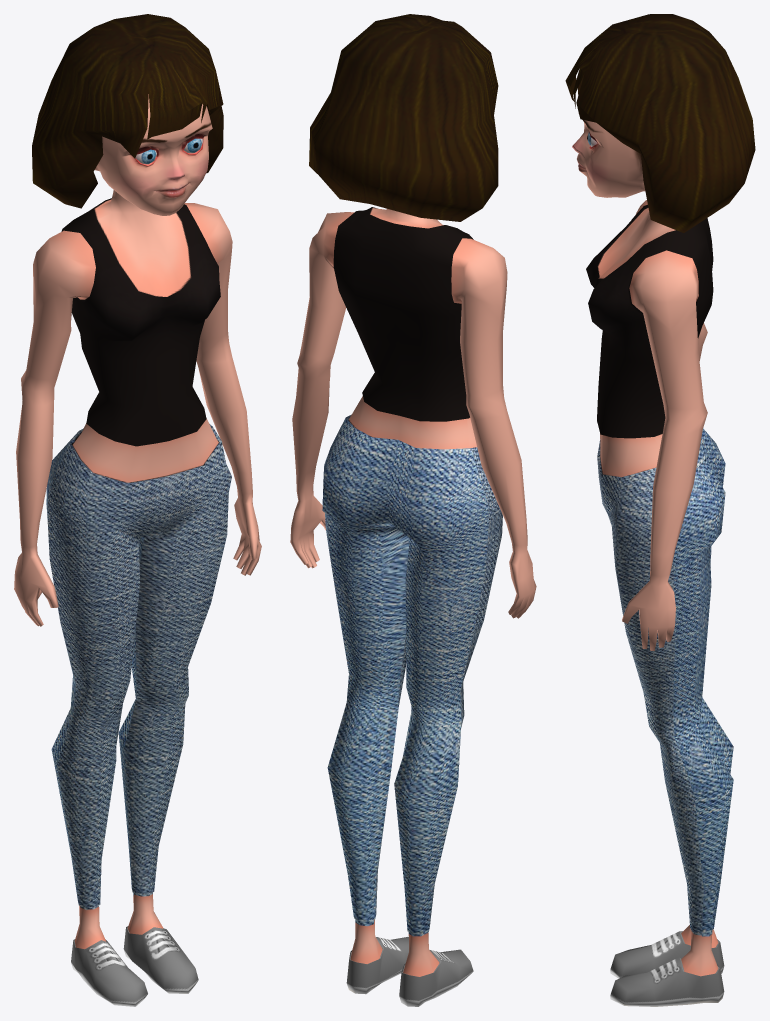
The model's file is low_poly_girl.fbx.
3 renders of one model, left to right at view 1: azimuth 30°, elevation 25°; view 2: azimuth 150°, elevation 25°; view 3: azimuth 270°, elevation 25°, orthographic.
Visible parts, largest first — view 1: polySurface1, polySurface2; view 2: polySurface1, polySurface2; view 3: polySurface1, polySurface2.
Part boxes in pixels (x1,y1,x2,y2): polySurface1: (14,94,261,1006); polySurface2: (32,14,223,208); polySurface1: (290,207,536,1006); polySurface2: (309,14,498,221); polySurface1: (572,113,733,1006); polySurface2: (565,14,755,232).
Bounding box in the file's own units: 4.97 × 19.29 × 3.46.
2 materials, 2 textured.
